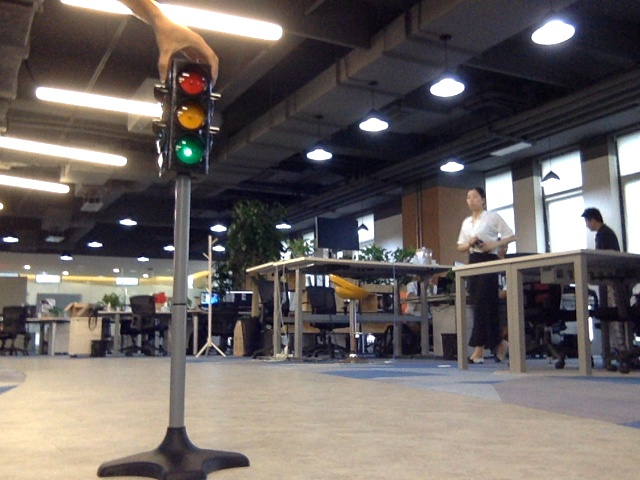green: (174, 69, 205, 165)
